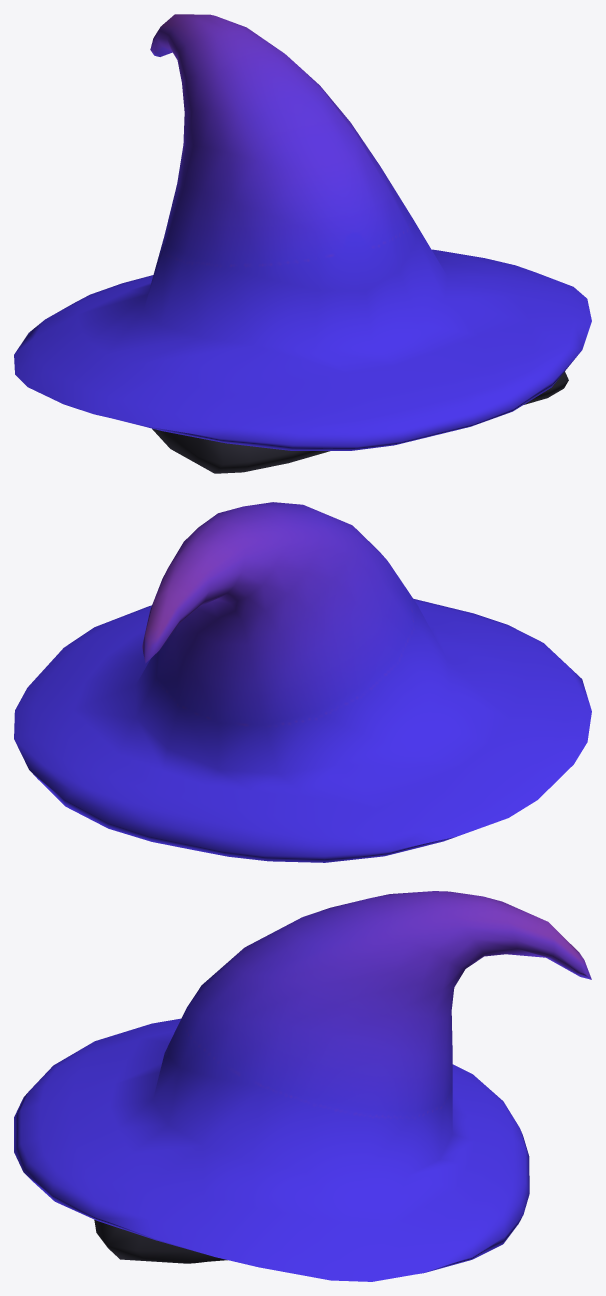
File: Player_squishB.fbx
3 views of the same model, one above another, from view 1: azimuth 30°, elevation 25°; view 2: azimuth 150°, elevation 25°; view 3: azimuth 270°, elevation 25° (orthographic).
Visible parts, largest first — view 1: hat, R_foot; view 2: hat; view 3: hat, L_foot.
Boxes of the visible parts, x1,y1,x2,y2 form: hat: [14, 14, 591, 450]; R_foot: [152, 428, 329, 473]; hat: [14, 502, 591, 862]; hat: [14, 891, 591, 1281]; L_foot: [94, 1219, 227, 1263].
Bounding box in the file's own units: 35.06 × 34.81 × 19.25.
